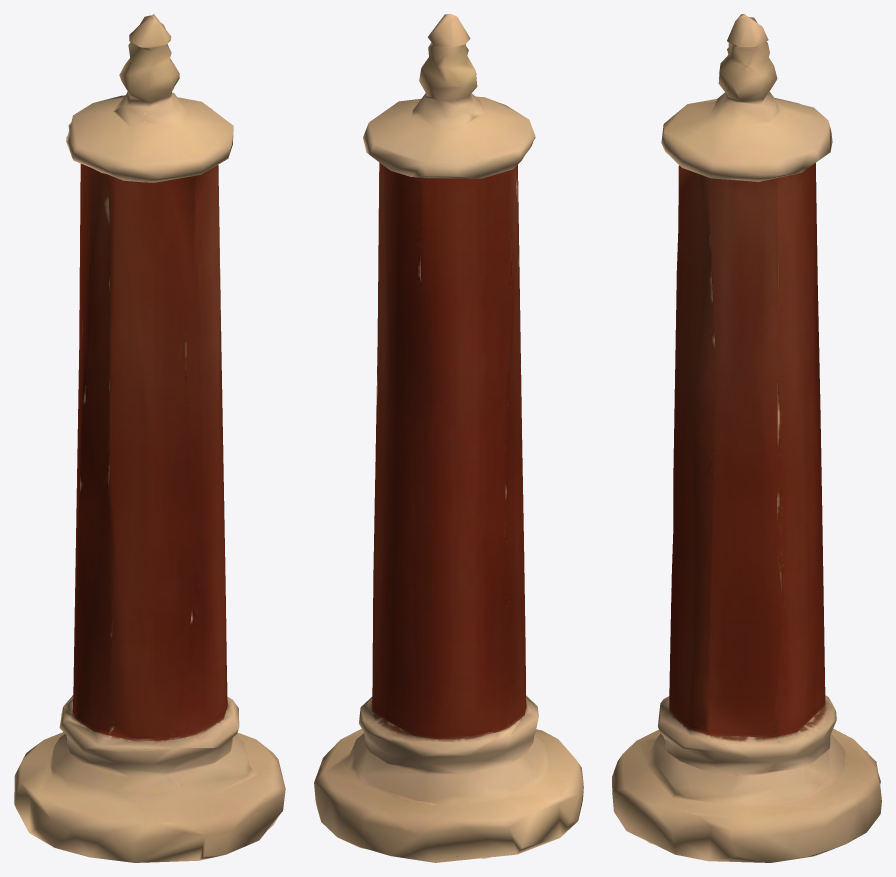
The model's file is cot-son.glb.
The picture shows the model from 3 angles, left to right: view 1: azimuth 30°, elevation 25°; view 2: azimuth 150°, elevation 25°; view 3: azimuth 270°, elevation 25°; orthographic projection.
Size of the model in its own units: 0.8987 by 3 by 0.8928.
1 material, 1 textured.
